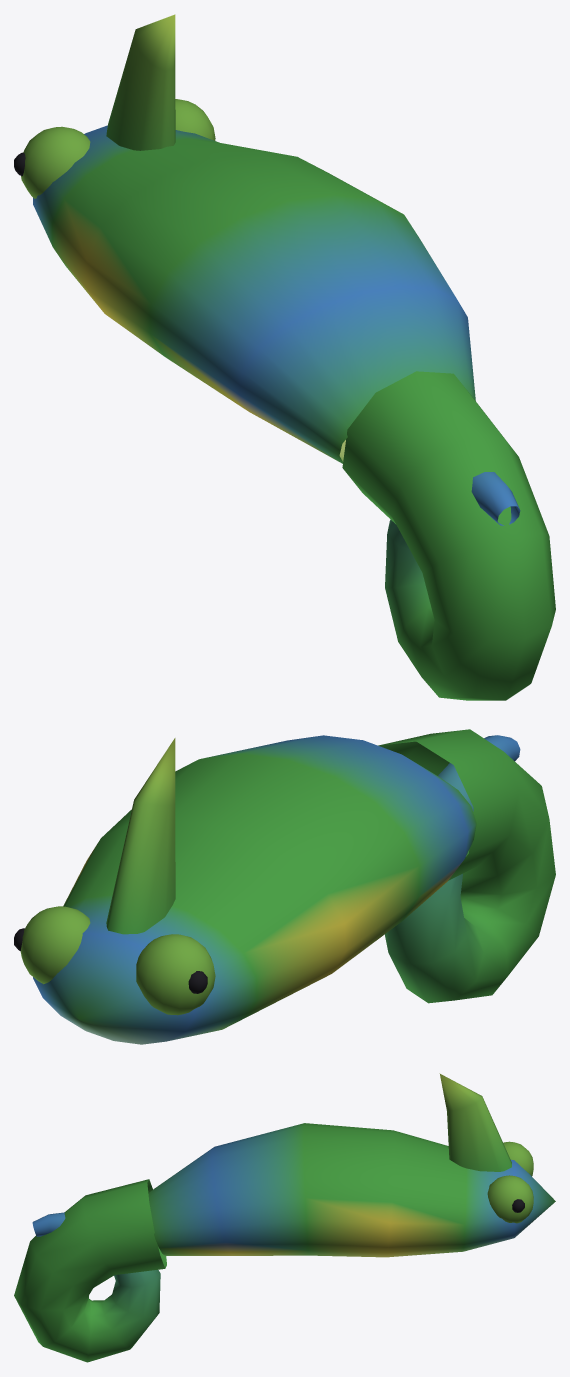
The model's file is Kameleon.fbx.
3 views of the same model, one above another, from view 1: azimuth 30°, elevation 25°; view 2: azimuth 150°, elevation 25°; view 3: azimuth 270°, elevation 25° (orthographic). The views are drawn at different scales.
Visible parts, largest first — view 1: Kameleon; view 2: Kameleon; view 3: Kameleon.
Boxes of the visible parts, x1=… form: Kameleon: x1=14, y1=14, x2=555, y2=700; Kameleon: x1=14, y1=729, x2=555, y2=1044; Kameleon: x1=14, y1=1073, x2=555, y2=1362.
Bounding box in the file's own units: 1.13 × 1.9 × 3.26.
